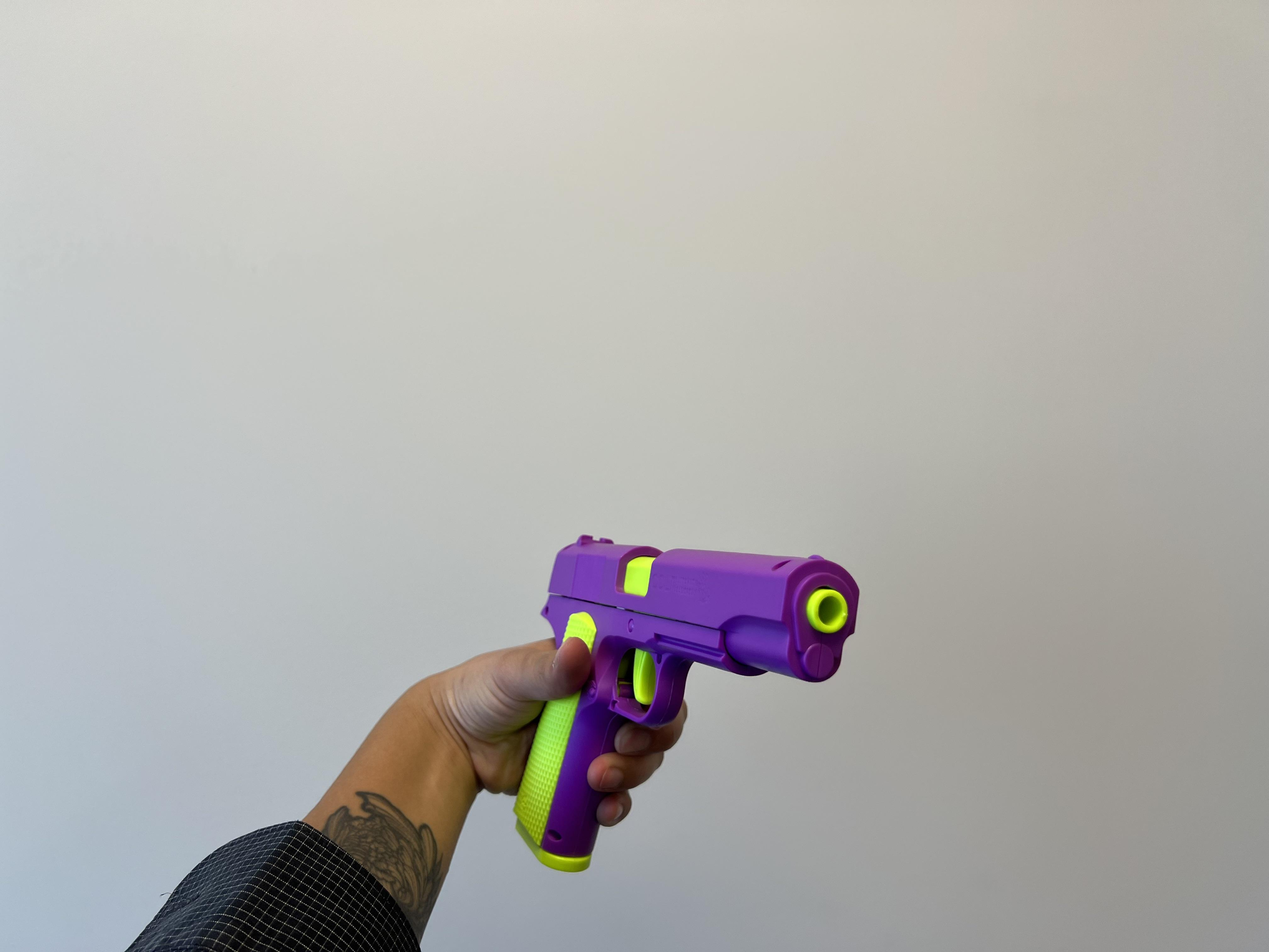Knife: (88, 642, 696, 952), (496, 521, 864, 881), (417, 638, 703, 844)
